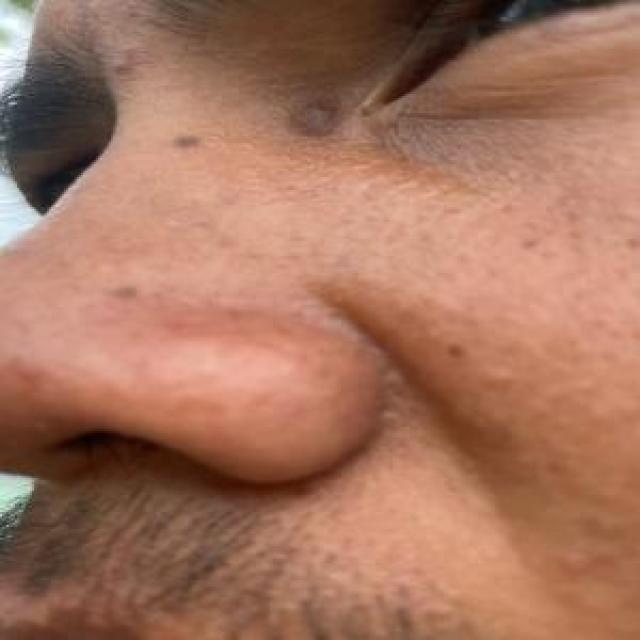Dry-Skin: (262, 258, 640, 638), (346, 76, 640, 247)
